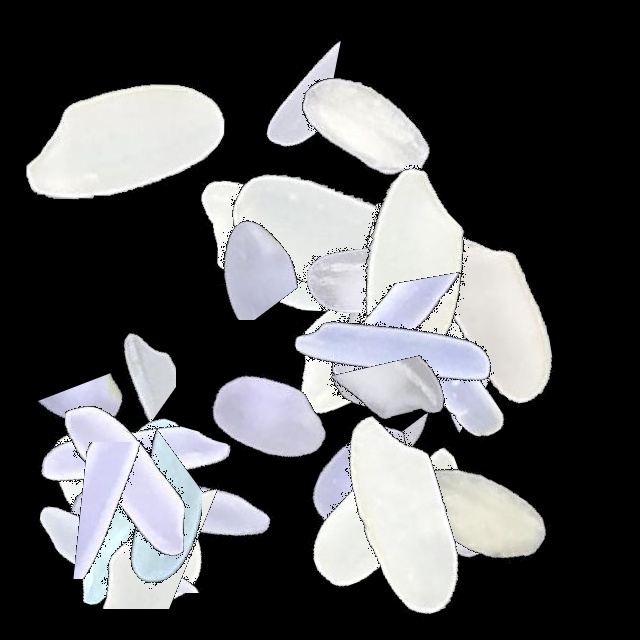Broken: (0, 414, 250, 582), (275, 411, 525, 578), (0, 437, 250, 593), (103, 165, 353, 320), (53, 390, 202, 640), (137, 10, 387, 148), (24, 442, 274, 579), (354, 222, 488, 472), (46, 241, 176, 491), (0, 479, 250, 609), (328, 301, 453, 551), (33, 319, 153, 569), (407, 227, 526, 477), (380, 157, 496, 407), (299, 324, 549, 437), (355, 377, 454, 627), (0, 497, 250, 596), (371, 144, 467, 394), (402, 329, 493, 579), (91, 363, 182, 613), (418, 219, 501, 469), (0, 428, 250, 507), (310, 277, 388, 527)
Full: (261, 126, 511, 376), (322, 194, 572, 444), (0, 390, 250, 640), (157, 122, 407, 372), (243, 213, 493, 463), (208, 110, 458, 360), (330, 390, 580, 640), (45, 390, 295, 640), (1, 15, 251, 265), (5, 390, 255, 640), (252, 212, 502, 462), (276, 176, 526, 426), (262, 390, 512, 640), (0, 370, 250, 620), (309, 228, 559, 478), (355, 387, 605, 637), (279, 390, 529, 640), (0, 387, 250, 637), (141, 295, 391, 545), (255, 200, 505, 450), (0, 354, 250, 604), (369, 190, 619, 440), (255, 159, 505, 409), (239, 0, 489, 250), (283, 145, 533, 395), (267, 231, 517, 481)
